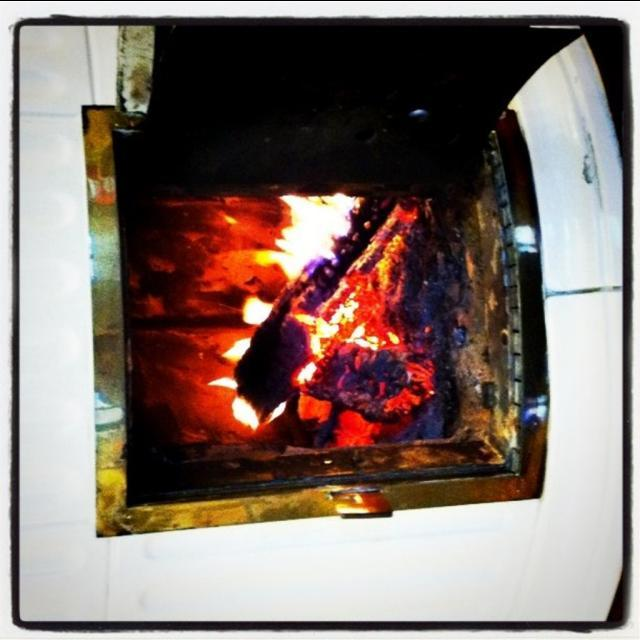Fire: (173, 189, 413, 452)
